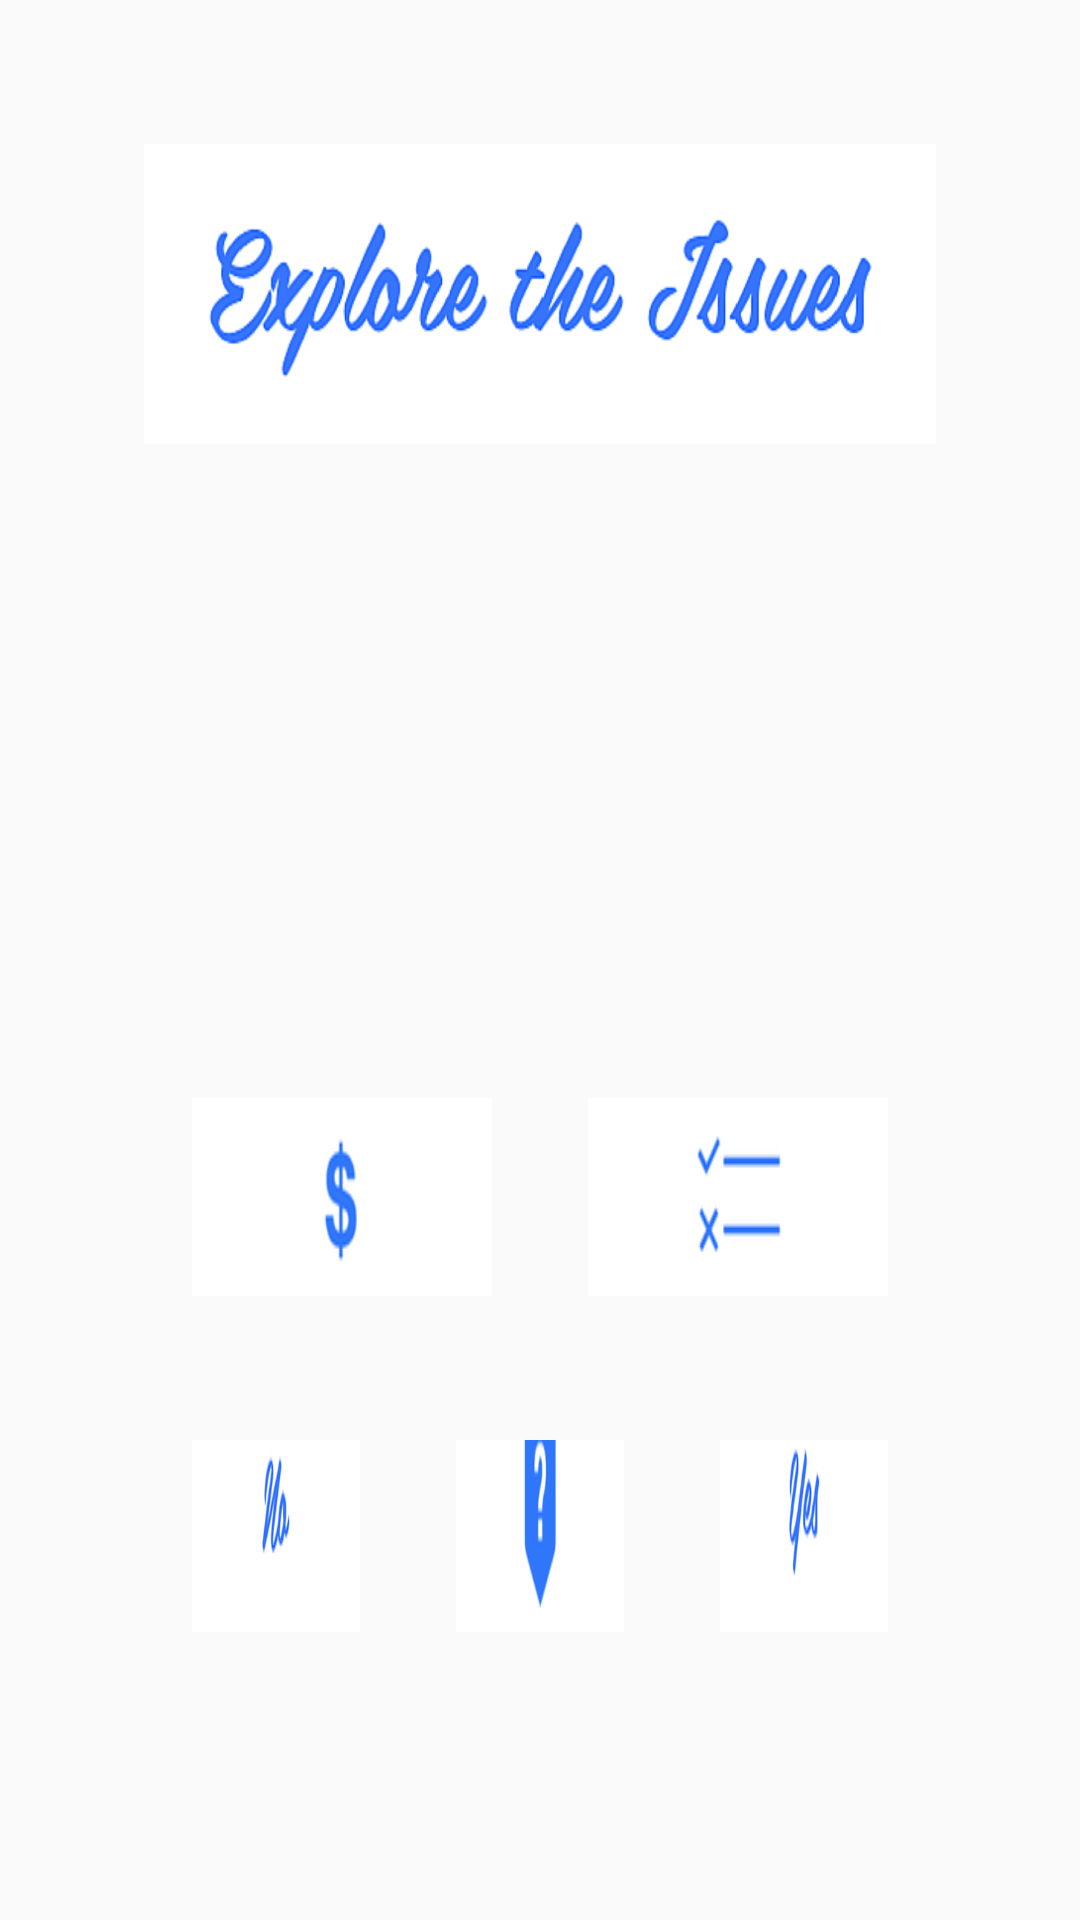

Where to tap for icons on this 1080x1920 app screen, as (x=x, y=y):
costs: (x=341, y=1194)
procon: (x=739, y=1192)
